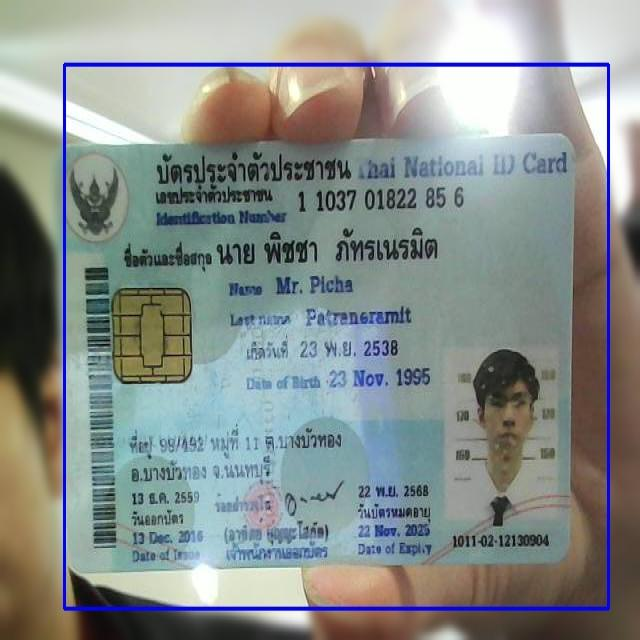Address_th: (123, 416, 354, 490)
Date_of_Birth: (326, 364, 432, 392)
Date_of_Expiry: (352, 521, 437, 541)
Date_of_Issue: (125, 524, 213, 550)
First_Name: (272, 268, 354, 300)
ID_Number: (294, 184, 468, 217)
Image: (443, 347, 561, 531)
Last_Name: (301, 303, 418, 330)
Thai_Name: (212, 224, 447, 270)
